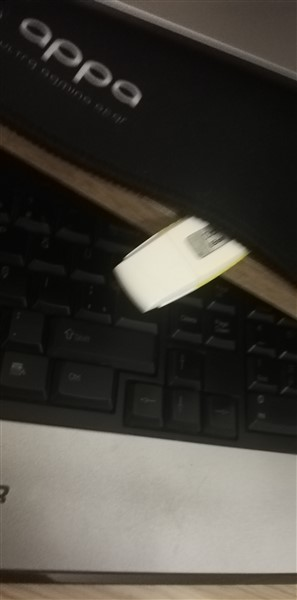flash disk: (111, 195, 254, 319)
klavye: (1, 148, 296, 599)
